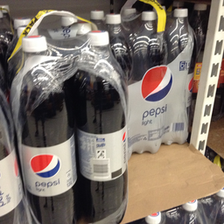soda: (10, 34, 82, 224), (73, 30, 126, 224), (133, 11, 168, 153), (165, 7, 195, 145)
